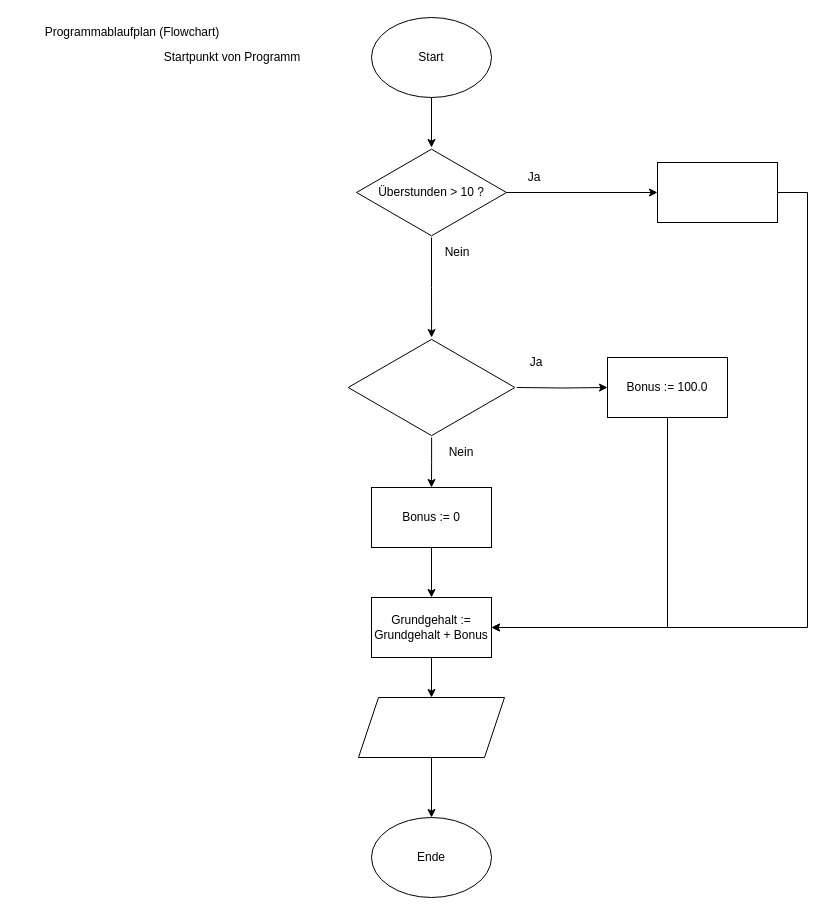
Some shapes in this 833 by 915 pixel diagram are drawn without their labels. The shapes that lost their labels are listed below. From the top down, each one's centre as x and y in pixels, then its label:
At point (717, 192): "Bonus := 200.0".
At point (431, 387): "Betriebszugehörigkeit > 5 ?".
At point (431, 727): "ZEIGE Grundgehalt".
